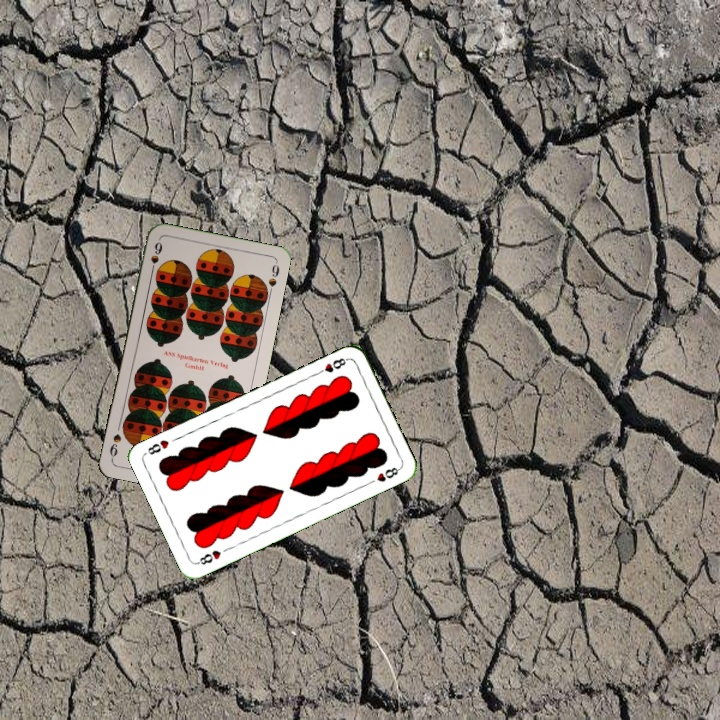H8: (312, 354, 351, 377), (193, 546, 224, 567)
S9: (147, 238, 165, 277)
